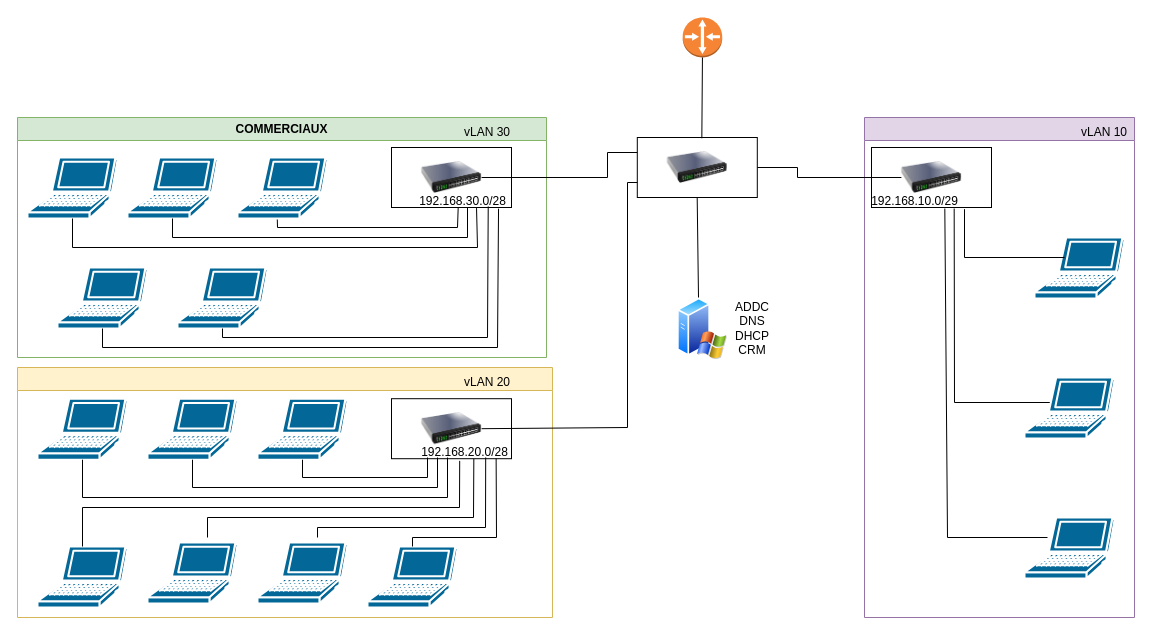
The diagram is 1152 pixels wide and 635 high, and some of its shapes have lost their labels. Here are the shapes that lost their labels. From the top down, the box of each, then its label:
(864, 116, 1134, 618): DIRECTION
(16, 366, 552, 618): TECHNIQUE
